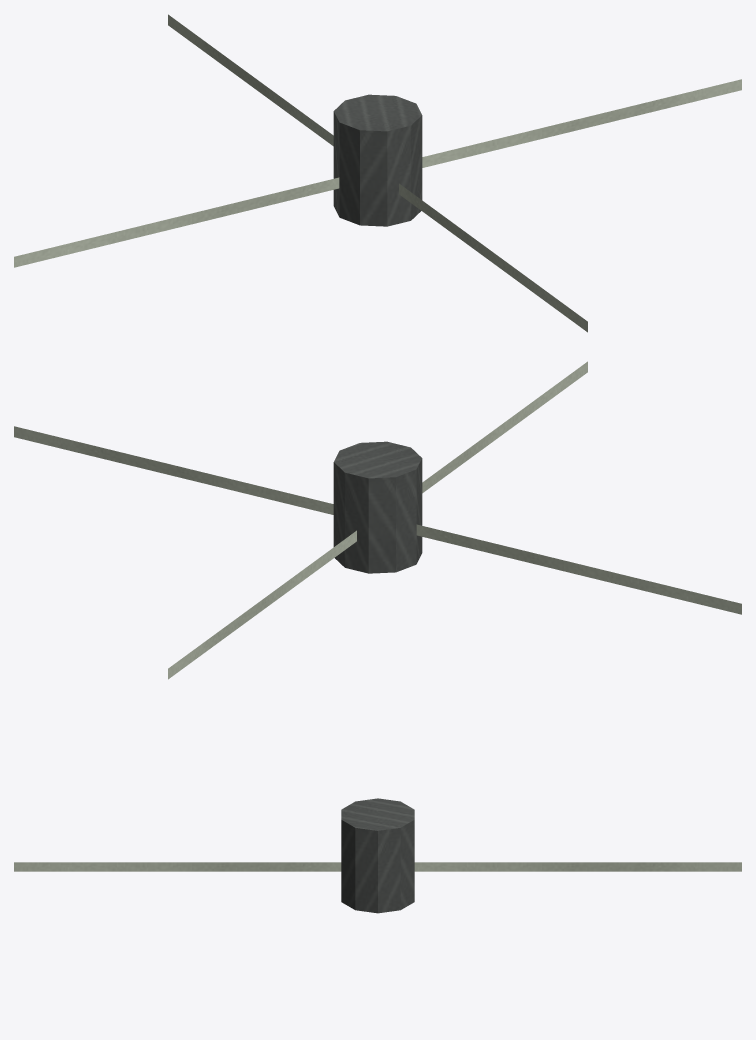
The model's file is ceilingfan_v1.glb.
3 views of the same model, one above another, from view 1: azimuth 30°, elevation 25°; view 2: azimuth 150°, elevation 25°; view 3: azimuth 270°, elevation 25° (orthographic). The views are drawn at different scales.
Visible parts, largest first — view 1: Variant_ceilingfan_1; view 2: Variant_ceilingfan_1; view 3: Variant_ceilingfan_1.
Boxes of the visible parts, <box> form: Variant_ceilingfan_1: <box>14,14,741,332</box>; Variant_ceilingfan_1: <box>14,361,741,679</box>; Variant_ceilingfan_1: <box>14,798,741,913</box>.
Bounding box in the file's own units: 1.04 × 0.13 × 1.04.
Materials: 2 (2 with a texture image).
